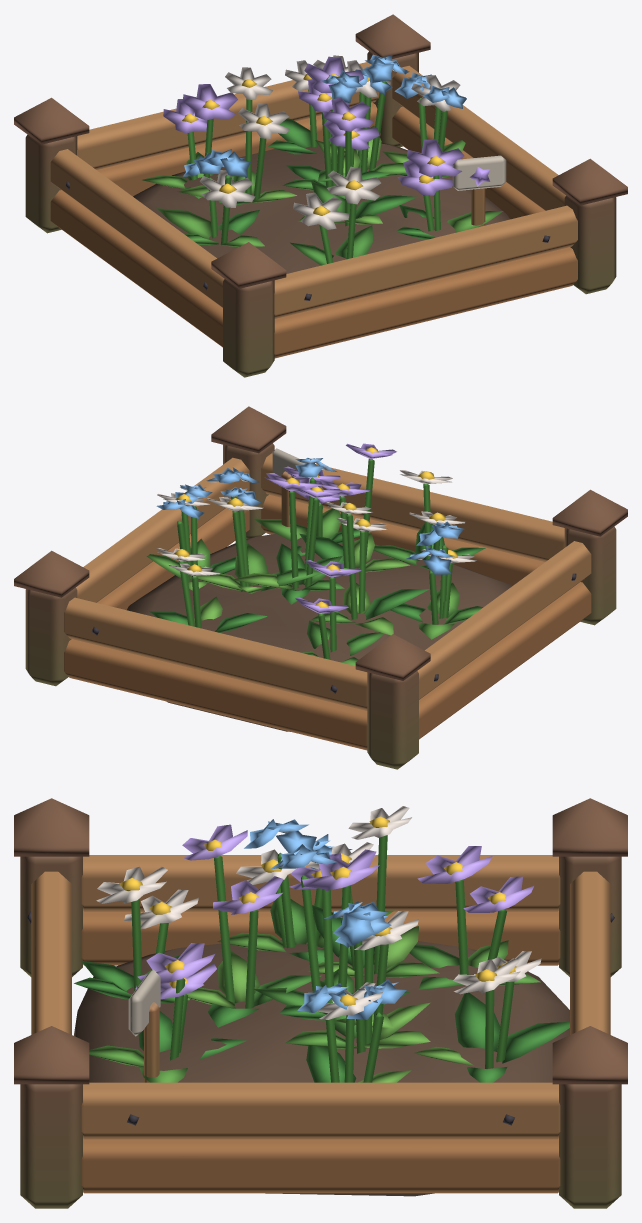
File: flowerBed-1-v1.glb
3 views of the same model, one above another, from view 1: azimuth 30°, elevation 25°; view 2: azimuth 150°, elevation 25°; view 3: azimuth 270°, elevation 25° (orthographic). The views are drawn at different scales.
Visible parts, largest first — view 1: flowerBed; view 2: flowerBed; view 3: flowerBed.
Part boxes in pixels (left/top/right/bottom): flowerBed: left=14, top=14, right=627, bottom=377; flowerBed: left=14, top=406, right=627, bottom=769; flowerBed: left=14, top=798, right=627, bottom=1208.
Size of the model in its own units: 0.9802 by 0.4401 by 0.9802.
